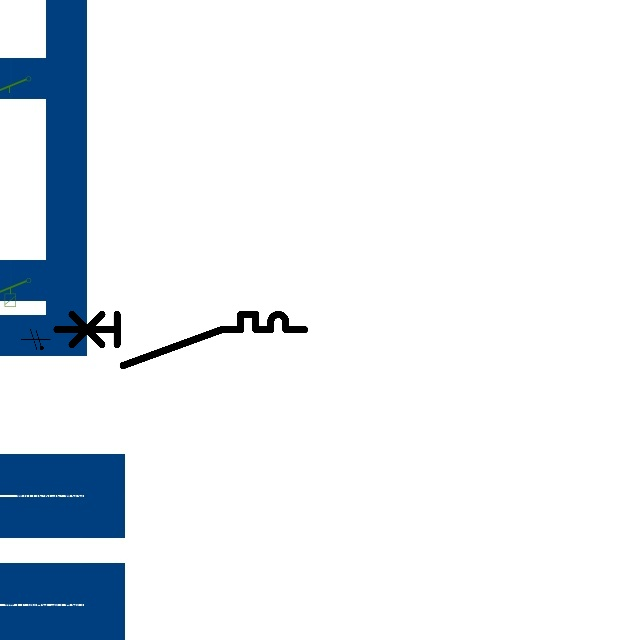interruptor_termomagnetico: (50, 308, 311, 372)
